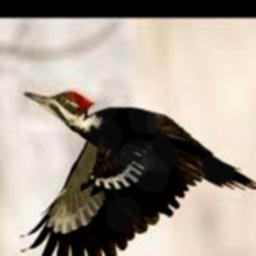Woodpecker: (19, 90, 256, 256)
